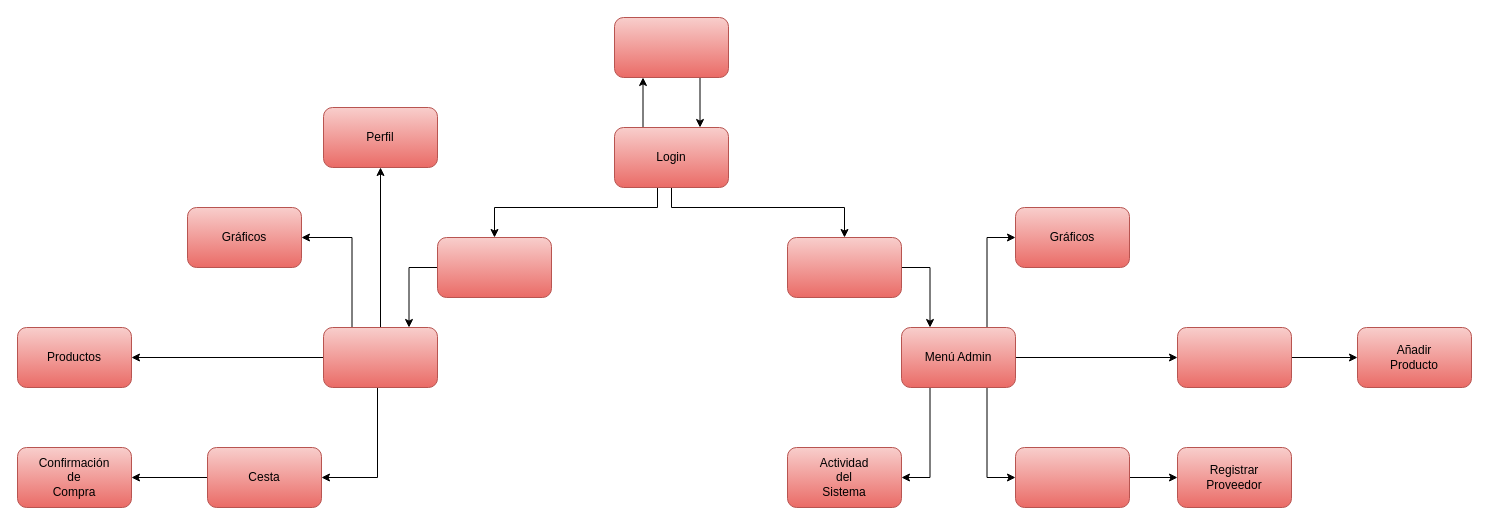
The diagram is 1489 pixels wide and 525 high, and some of its shapes have lost their labels. The centre of each missing label's shape, as x and y in pixels:
Admin: the point at 844,267
Cliente: the point at 494,267
Inventario: the point at 1234,357
Menú Cliente: the point at 380,357
Proveedores: the point at 1072,477
Registro: the point at 671,47
